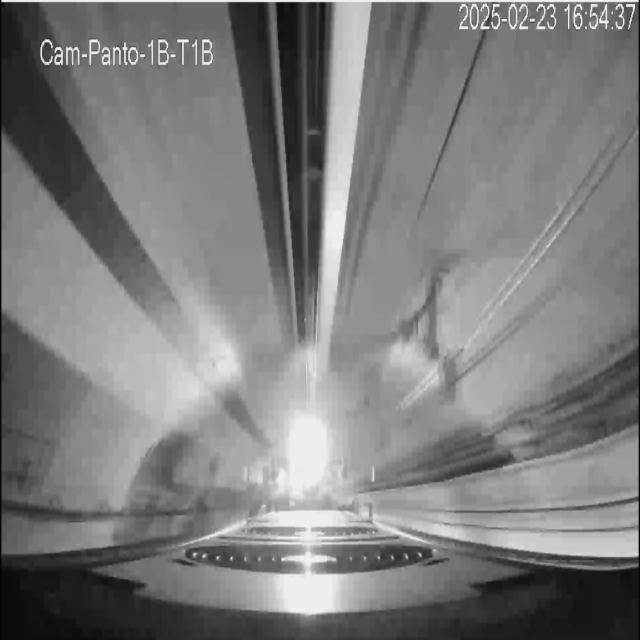Camera Stamp: (36, 29, 220, 71)
Date Stamp: (460, 3, 636, 33)
Sparks: (284, 406, 333, 495)
